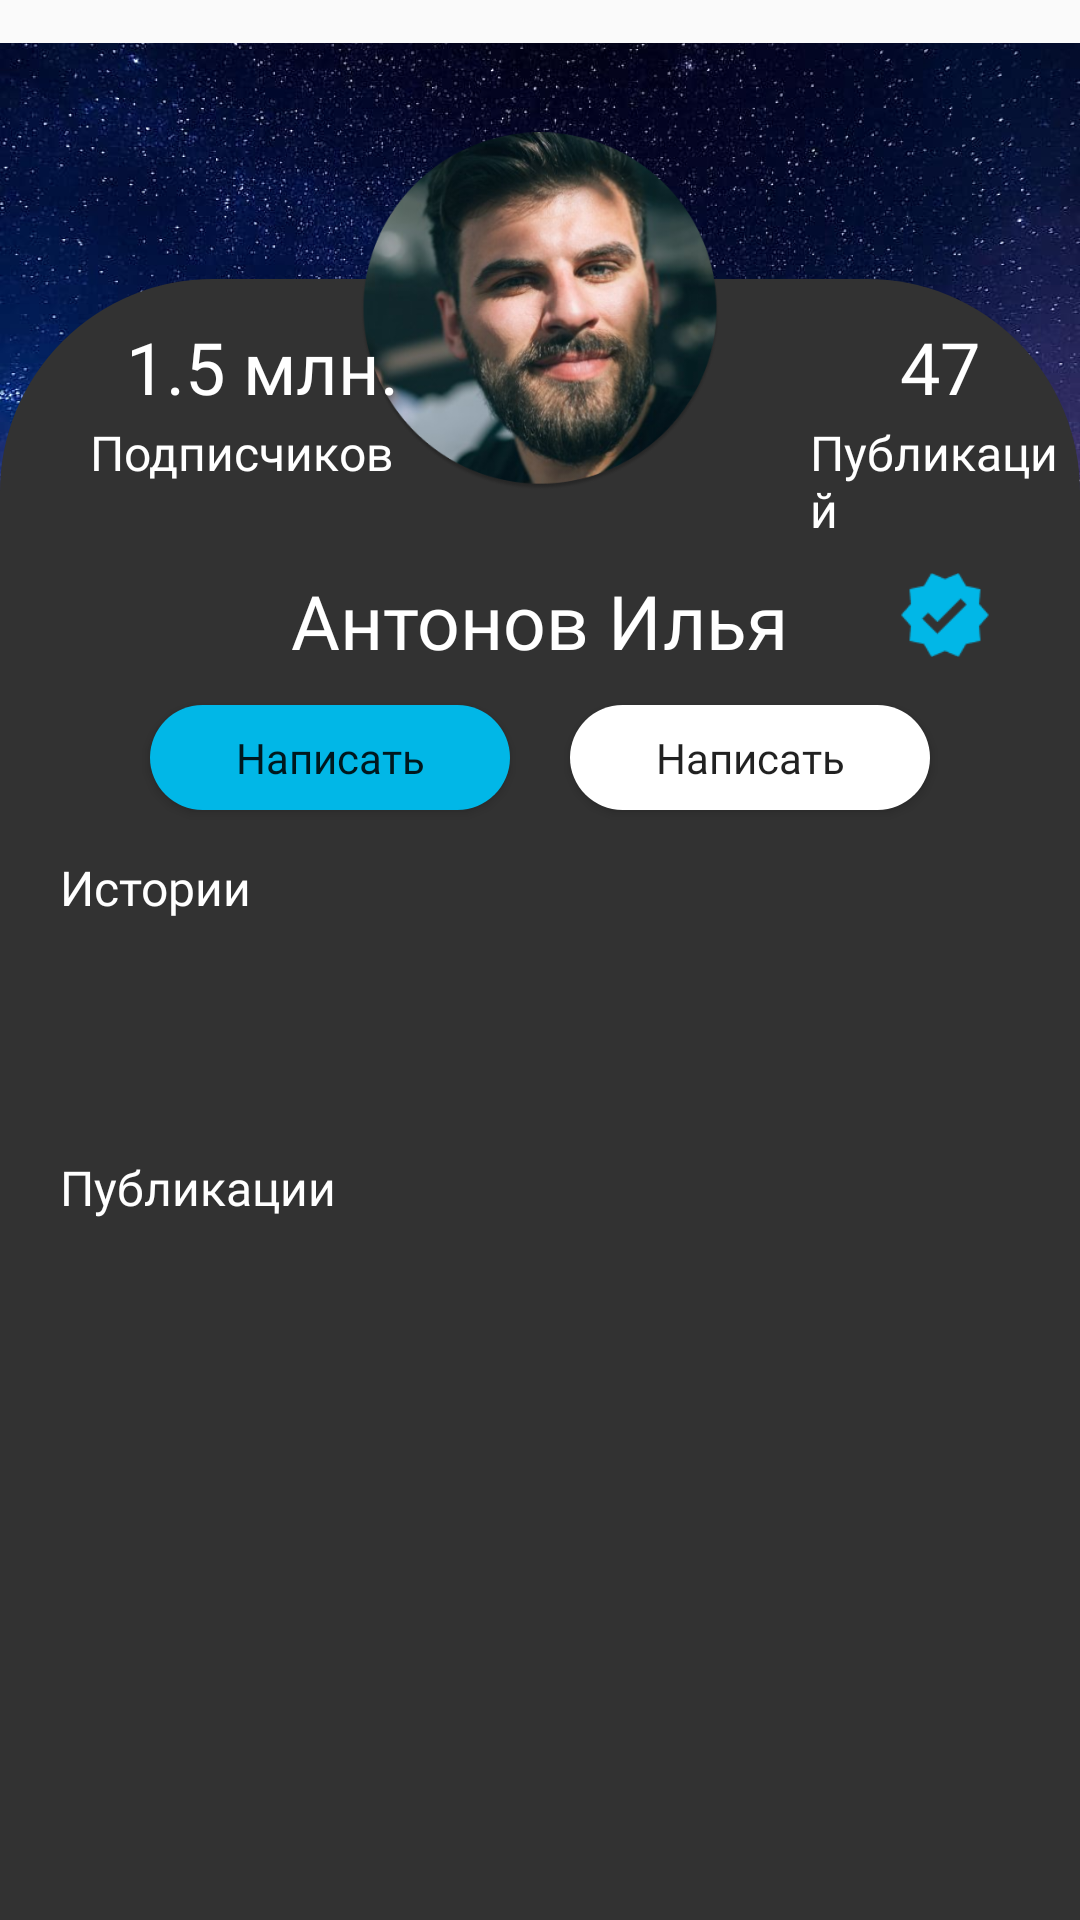

Icons on this 1080*1920 Android screen, each with the point to tap as (x,y):
man: (540,312)
ver: (945,615)
